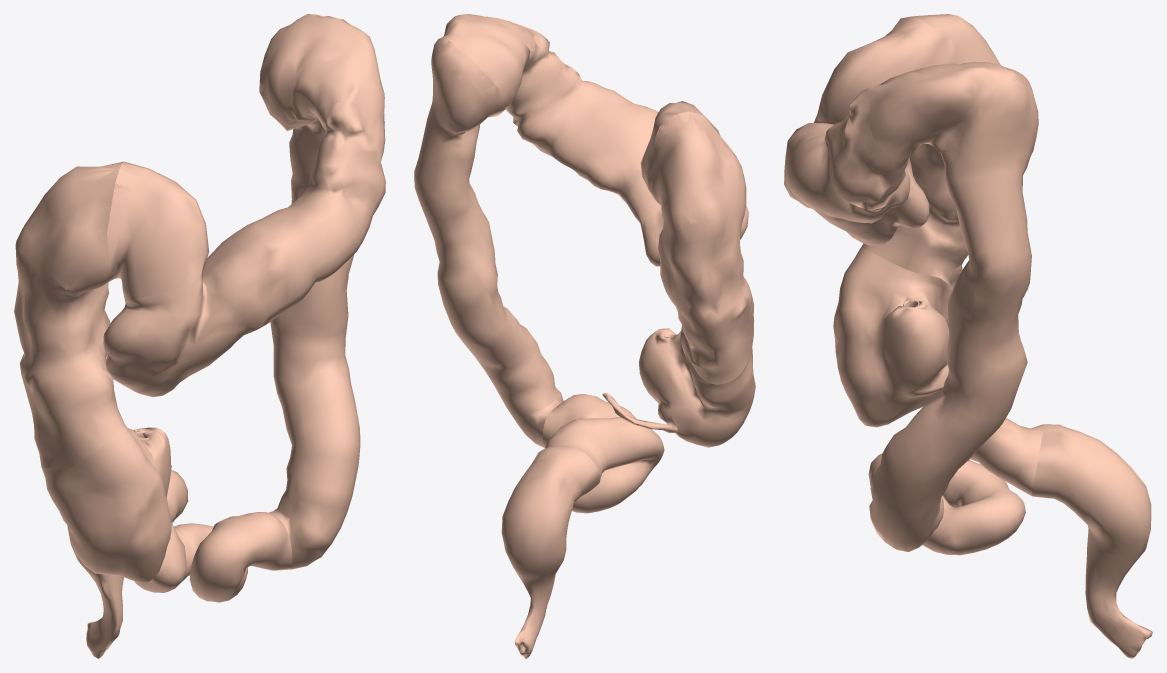
The model's file is sbu_m_intestine_large-80.glb.
3 renders of one model, left to right at view 1: azimuth 30°, elevation 25°; view 2: azimuth 150°, elevation 25°; view 3: azimuth 270°, elevation 25°, orthographic. The views are drawn at different scales.
Visible parts, largest first — view 1: VH_M_transverse_colon, VH_M_ascending_colon, VH_M_descending_colon, VH_M_caecum, VH_M_hepatic_flexure_of_colon, VH_M_sigmoid_colon, VH_M_splenic_flexure_of_colon, VH_M_rectum; view 2: VH_M_descending_colon, VH_M_ascending_colon, VH_M_transverse_colon, VH_M_rectum, VH_M_caecum, VH_M_sigmoid_colon, VH_M_splenic_flexure_of_colon, VH_M_hepatic_flexure_of_colon, VH_M_vermiform_appendix; view 3: VH_M_descending_colon, VH_M_transverse_colon, VH_M_caecum, VH_M_rectum, VH_M_splenic_flexure_of_colon, VH_M_sigmoid_colon, VH_M_hepatic_flexure_of_colon, VH_M_ascending_colon.
Boxes of the visible parts, x1,y1,x2,y2 form: VH_M_transverse_colon: (103,14,385,396); VH_M_ascending_colon: (14,161,124,469); VH_M_descending_colon: (259,19,360,569); VH_M_caecum: (41,424,171,582); VH_M_hepatic_flexure_of_colon: (15,161,209,300); VH_M_sigmoid_colon: (134,469,292,602); VH_M_splenic_flexure_of_colon: (259,14,384,135); VH_M_rectum: (67,525,123,658); VH_M_descending_colon: (414,38,563,447); VH_M_ascending_colon: (648,111,754,384); VH_M_transverse_colon: (441,14,748,266); VH_M_rectum: (501,446,600,658); VH_M_caecum: (639,328,755,447); VH_M_sigmoid_colon: (543,394,664,513); VH_M_splenic_flexure_of_colon: (432,14,535,135); VH_M_hepatic_flexure_of_colon: (640,101,746,230); VH_M_vermiform_appendix: (602,393,677,433); VH_M_descending_colon: (869,70,1038,551); VH_M_transverse_colon: (784,16,1011,245); VH_M_caecum: (833,247,952,427); VH_M_rectum: (1032,424,1152,658); VH_M_splenic_flexure_of_colon: (868,61,1038,179); VH_M_sigmoid_colon: (868,418,1043,555); VH_M_hepatic_flexure_of_colon: (817,14,999,123); VH_M_ascending_colon: (861,14,1000,290).
Size of the model in its own units: 0.2591 by 0.4503 by 0.2248.
